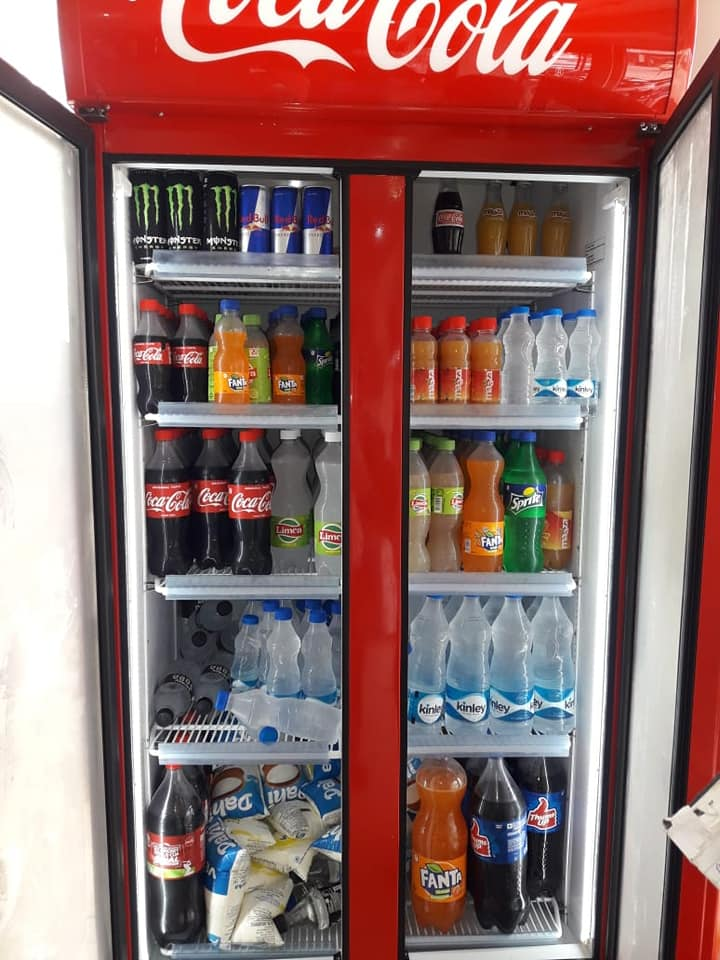cocacola: (232, 491, 273, 514), (146, 490, 191, 510), (133, 347, 164, 361), (174, 350, 202, 365)
fanta: (421, 867, 465, 891), (277, 378, 299, 395), (227, 375, 246, 390), (482, 535, 503, 548)
kinley: (455, 699, 486, 715), (418, 701, 443, 715), (575, 384, 593, 394)
limca: (274, 523, 305, 537), (320, 529, 343, 543), (410, 497, 429, 511), (450, 495, 463, 508)
maaza: (480, 367, 494, 401), (557, 517, 571, 550), (452, 367, 466, 398), (426, 369, 437, 398)
monster: (210, 184, 238, 235), (133, 183, 161, 233), (166, 181, 194, 231)
redbull: (239, 212, 268, 232), (307, 213, 333, 235), (275, 213, 299, 232)
sprite: (510, 494, 541, 512), (316, 354, 333, 369)
thumsup: (469, 819, 491, 859), (528, 798, 556, 829)
